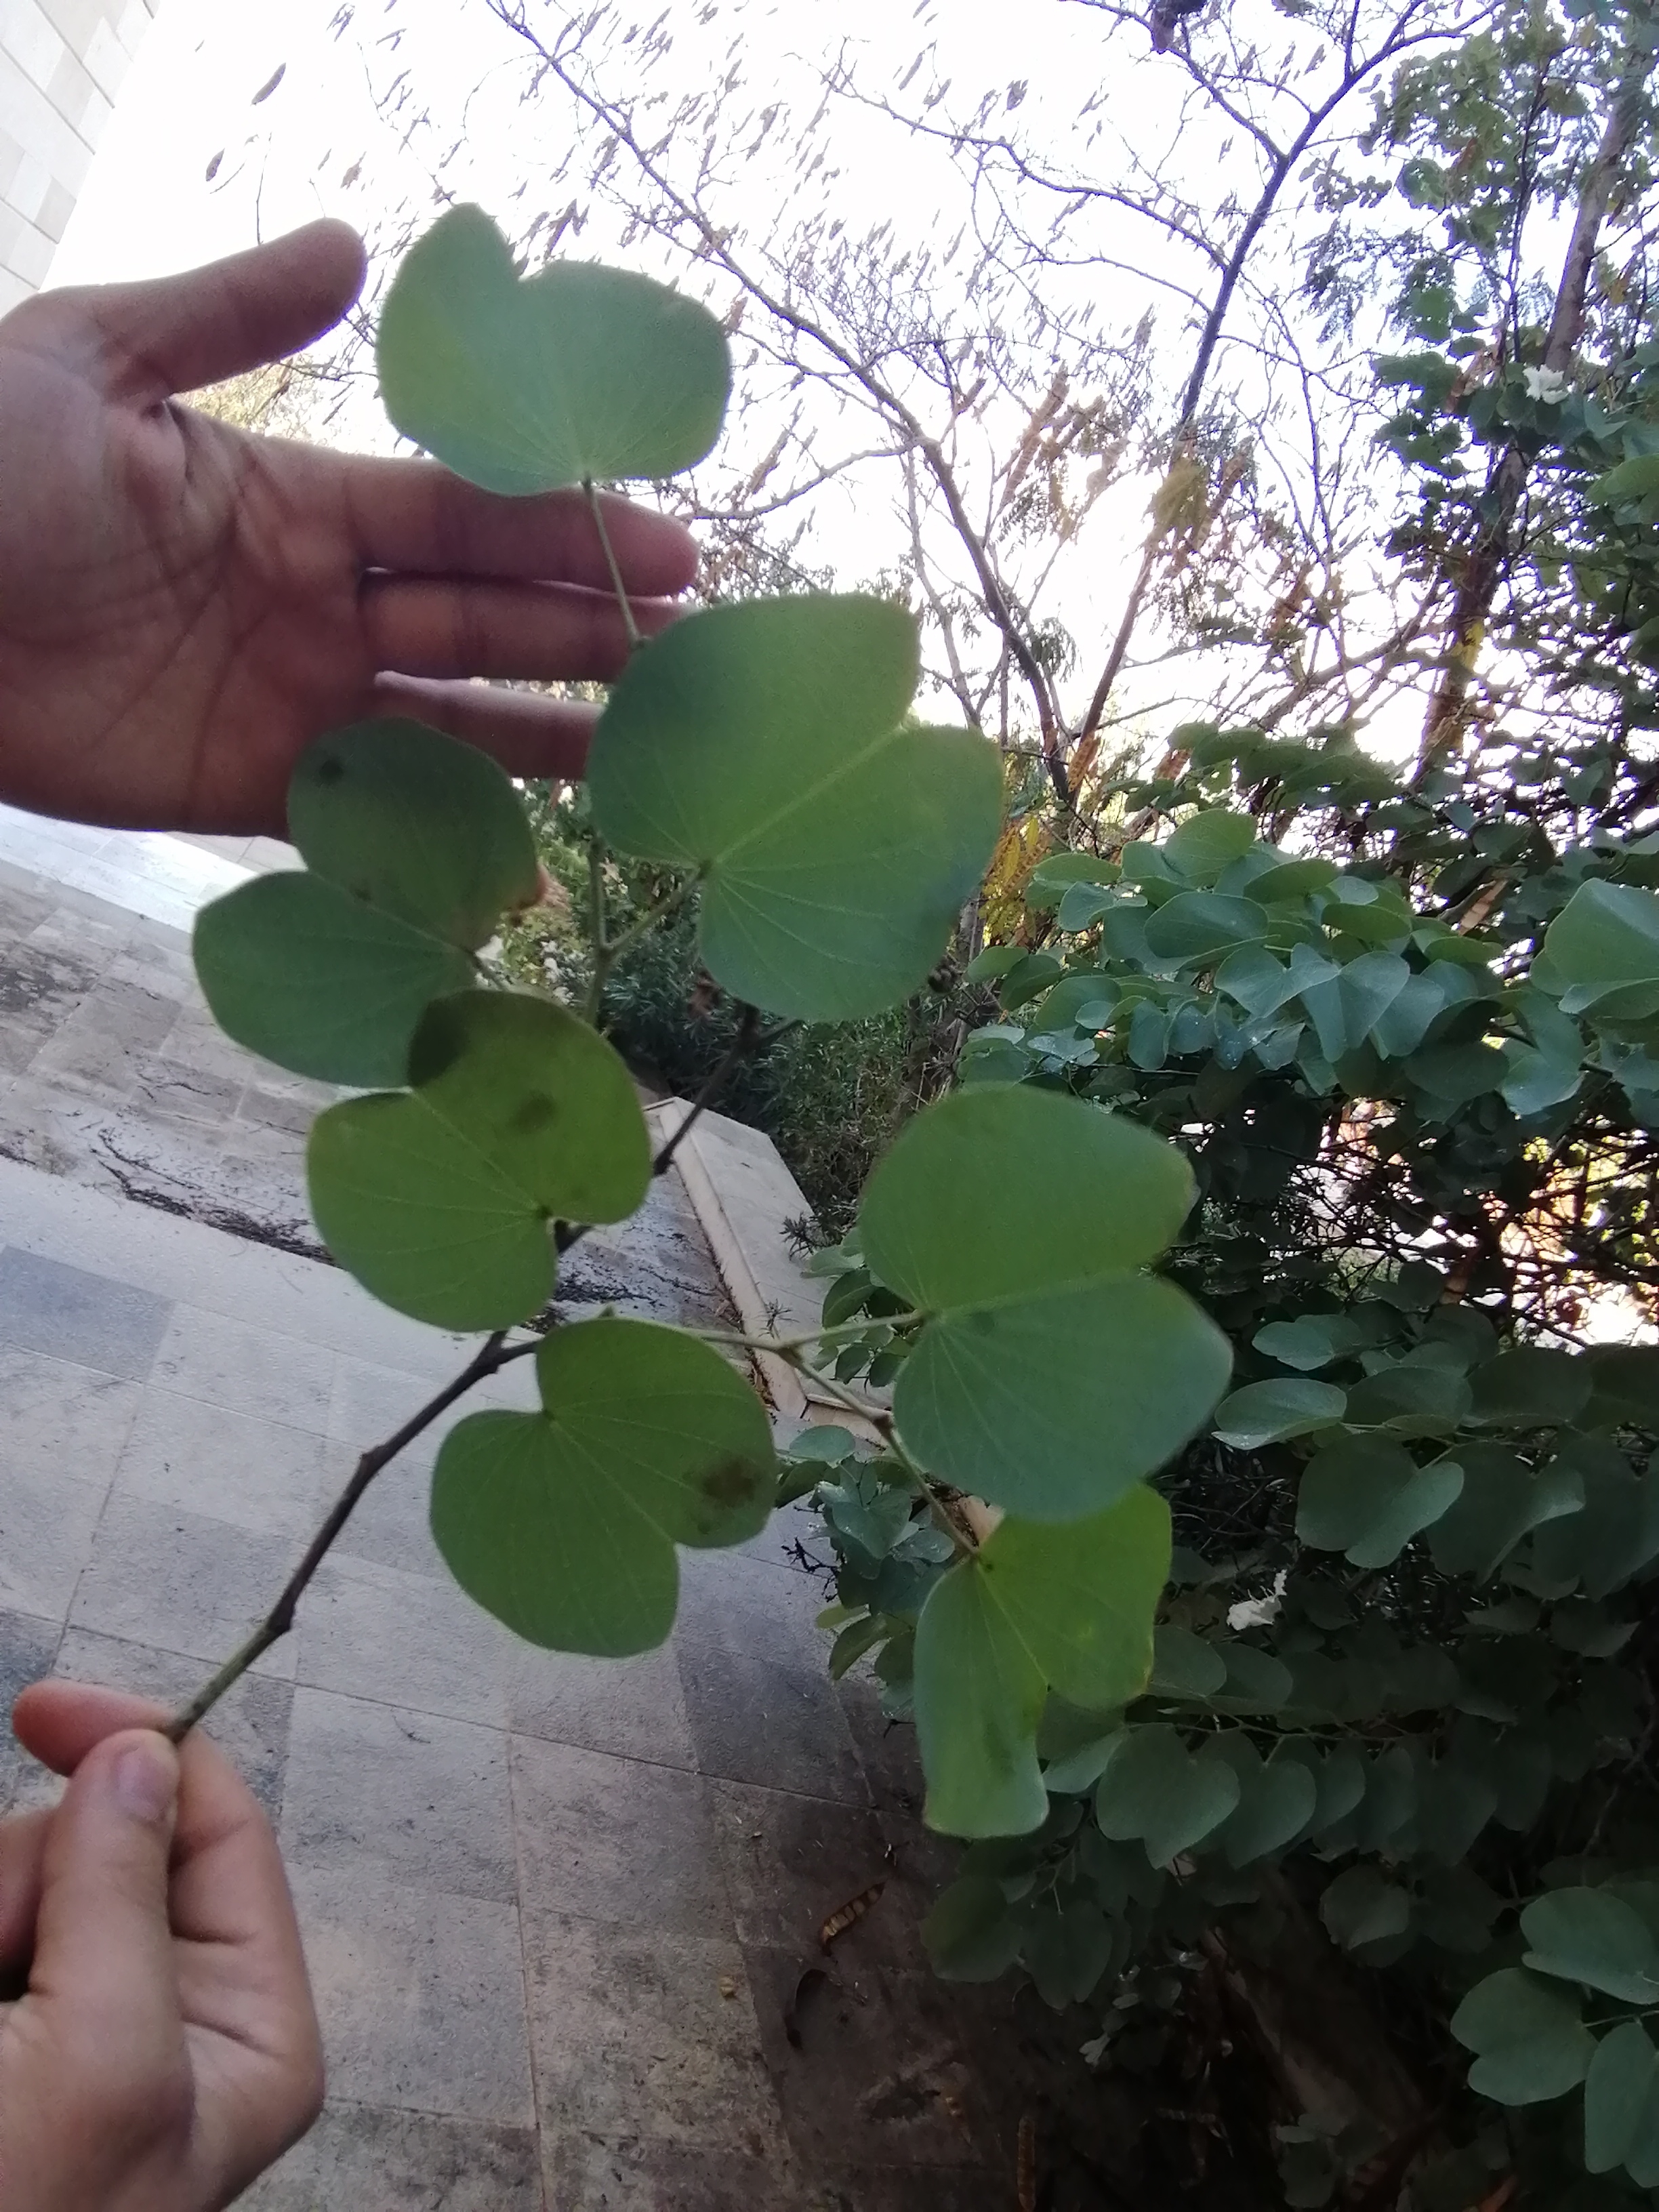healthy: (603, 571, 983, 993), (856, 1089, 1216, 1512), (317, 972, 674, 1346), (213, 704, 559, 1082), (427, 1301, 829, 1625), (340, 263, 767, 498)
